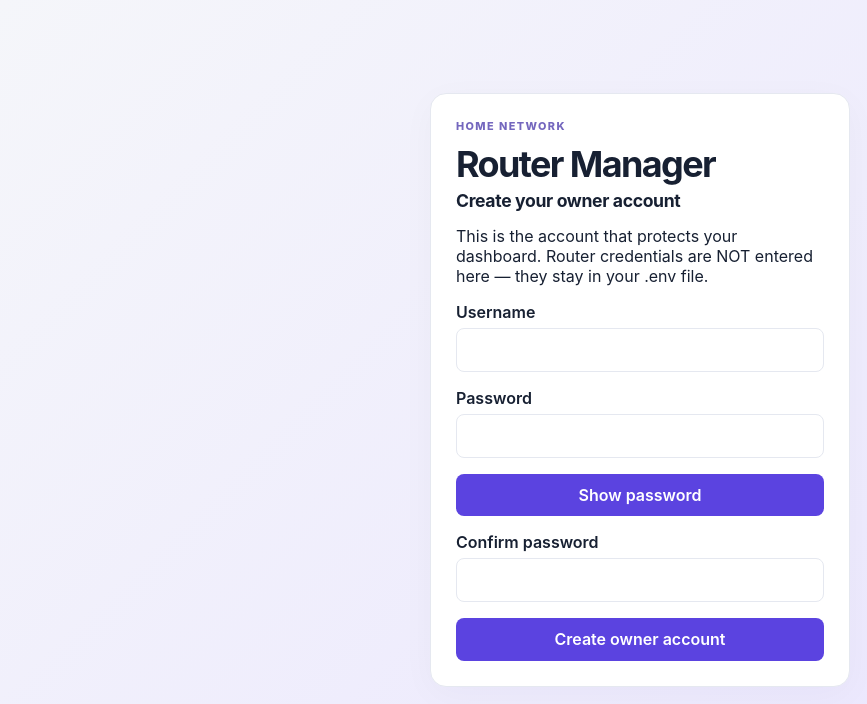
first-run owner form › handles conflict by switching to sign in
The width and height of the screenshot is (867, 704).
Type "owner" into the field labelled "Username" at x=640, y=350, box [456,328,824,372]
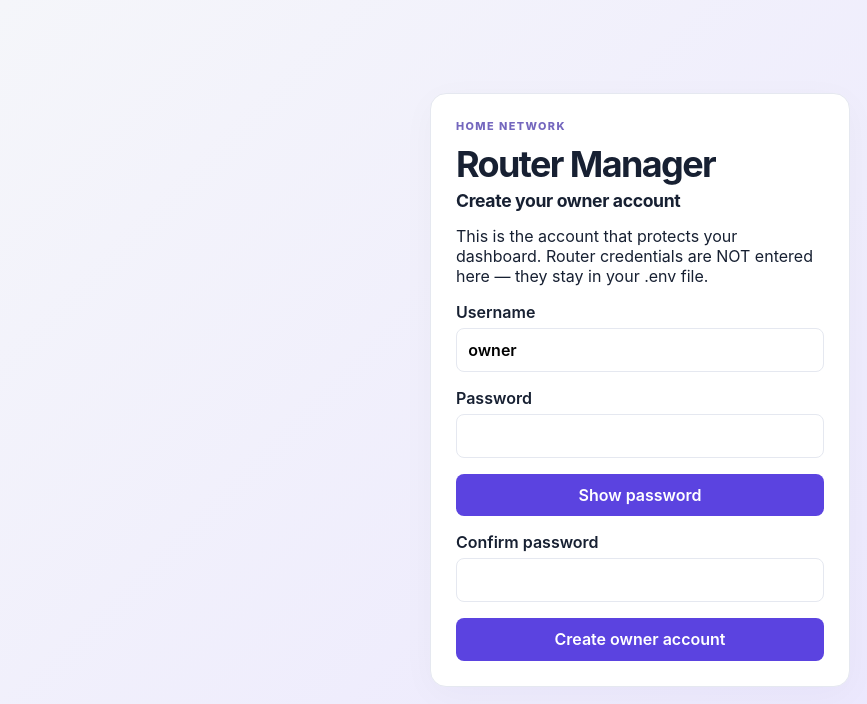
Type "long-password" into the password field labelled "Password" at x=640, y=436, box [456,414,824,458]
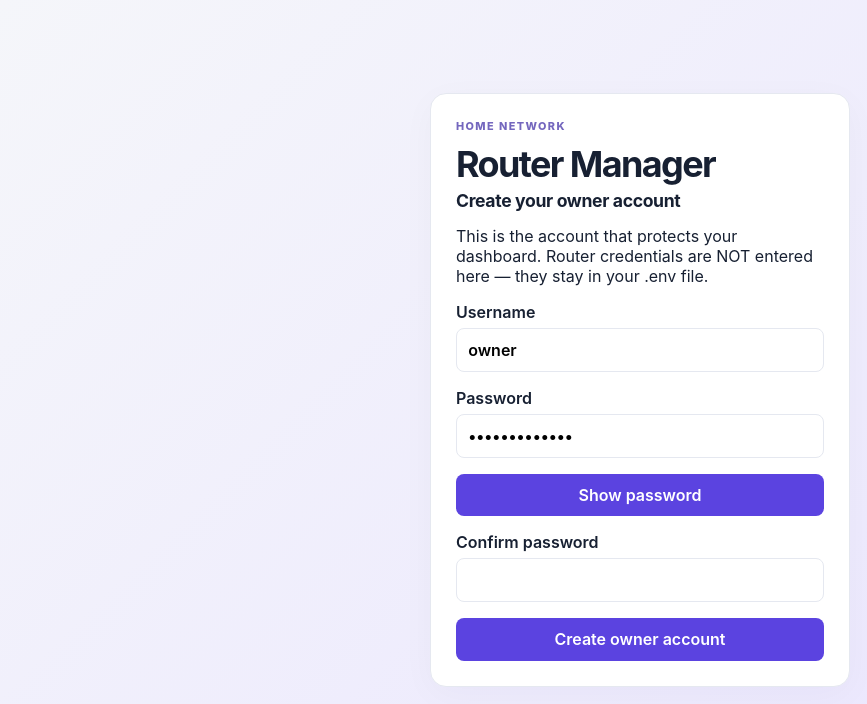
Type "long-password" into the password field labelled "Confirm password" at x=640, y=580, box [456,558,824,602]
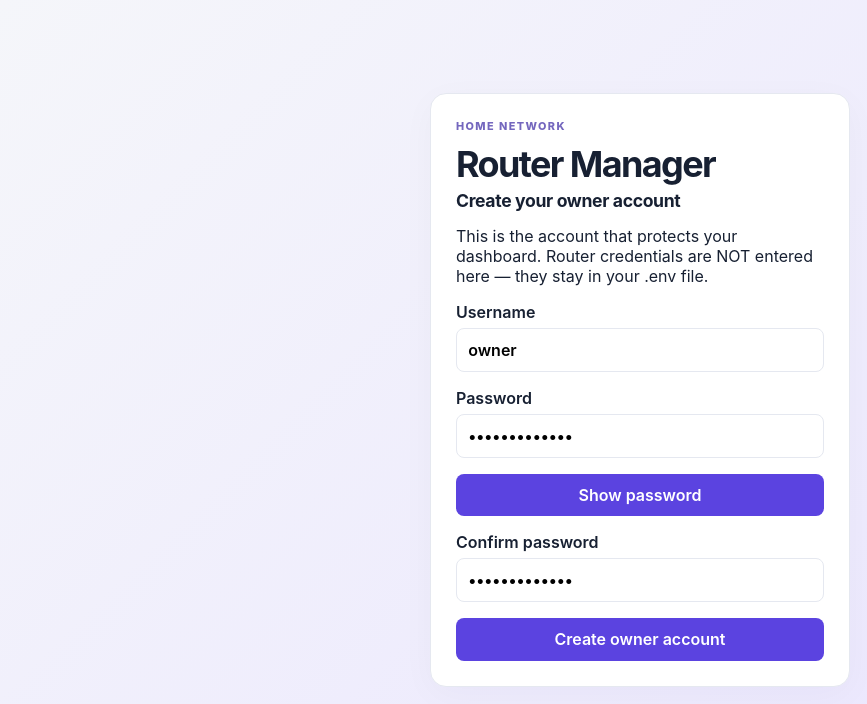
Click the button "Create owner account" at x=640, y=640, box [456,618,824,661]
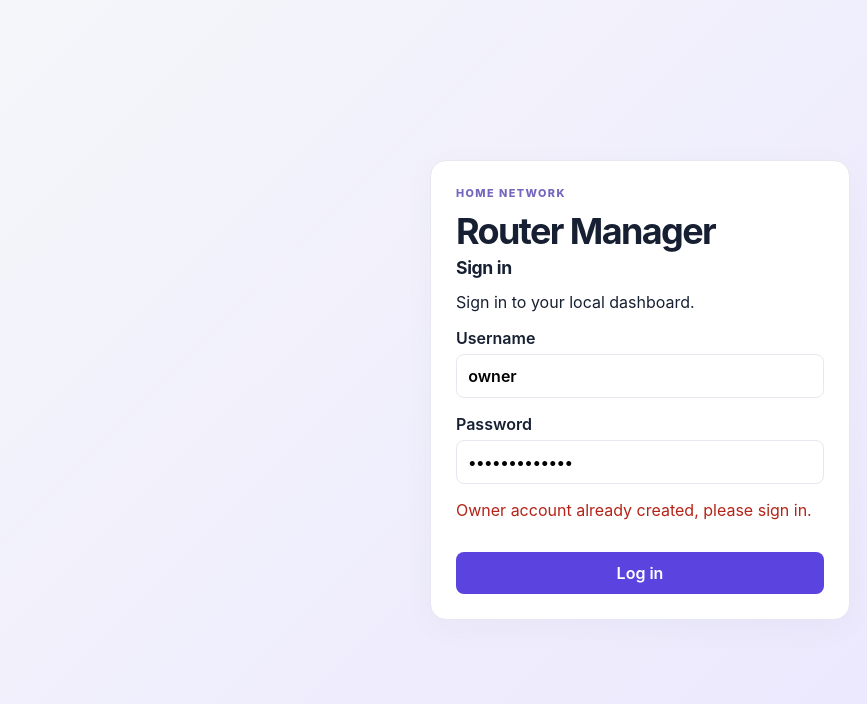
Expected: the message shows "already created, please sign in", [456,500,812,520]
Expected: the button "Log in" is shown, [456,552,824,594]
